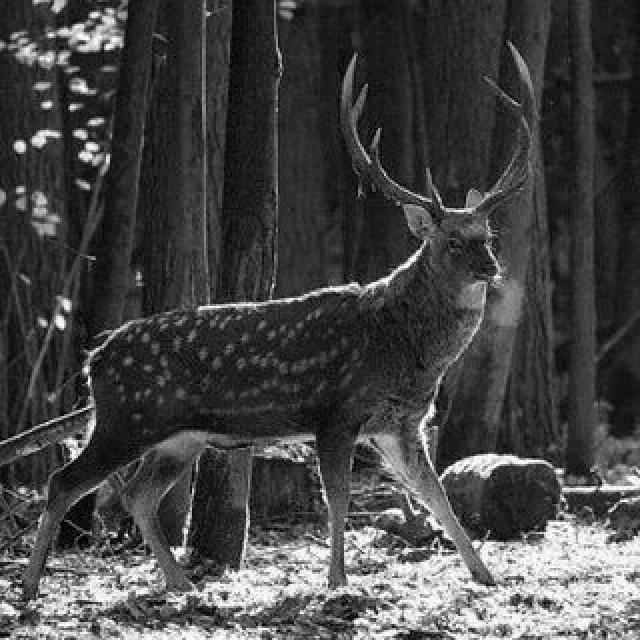Deer: (3, 39, 545, 588)
